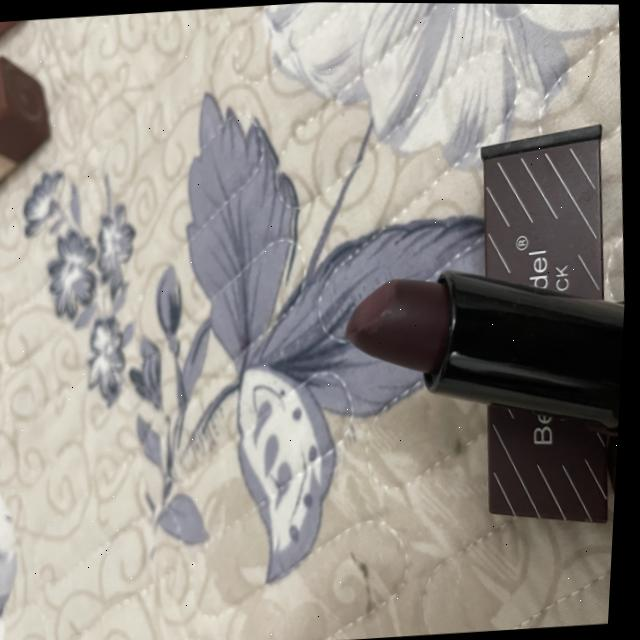lip stick: (330, 230, 631, 484)
